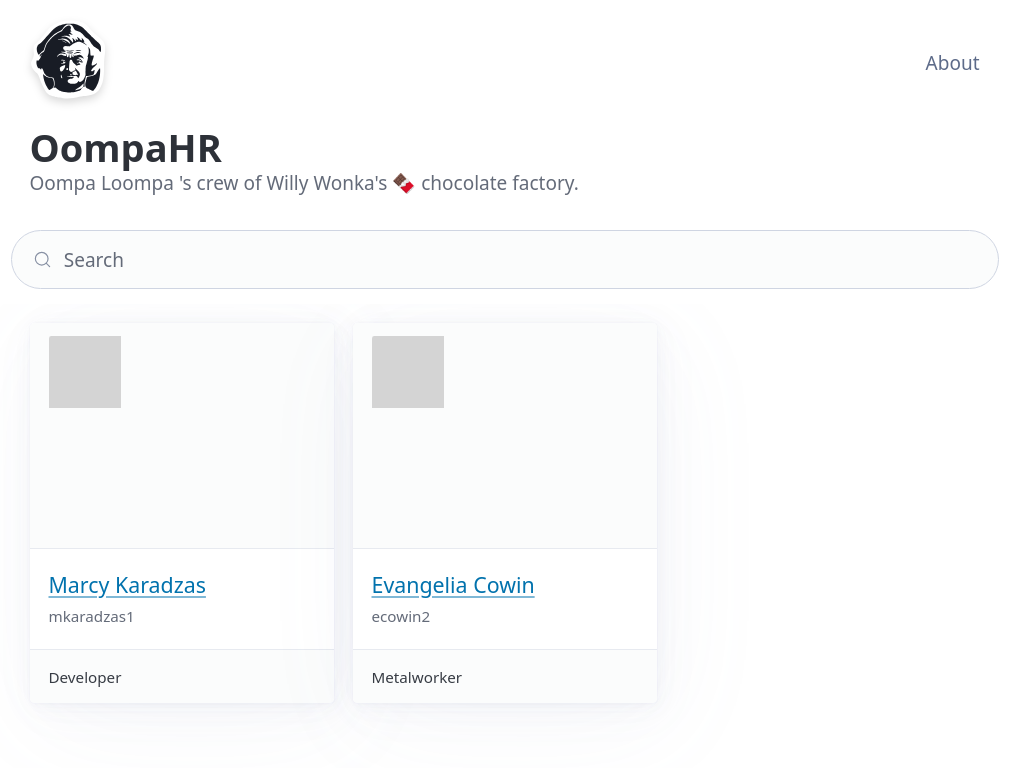
Test case: App › home view › navigation › navigates to the detail view when clicking on a worker
Click the link "Marcy Karadzas" at coordinates (127, 584), box top-left (48, 570), bottom-right (206, 599)
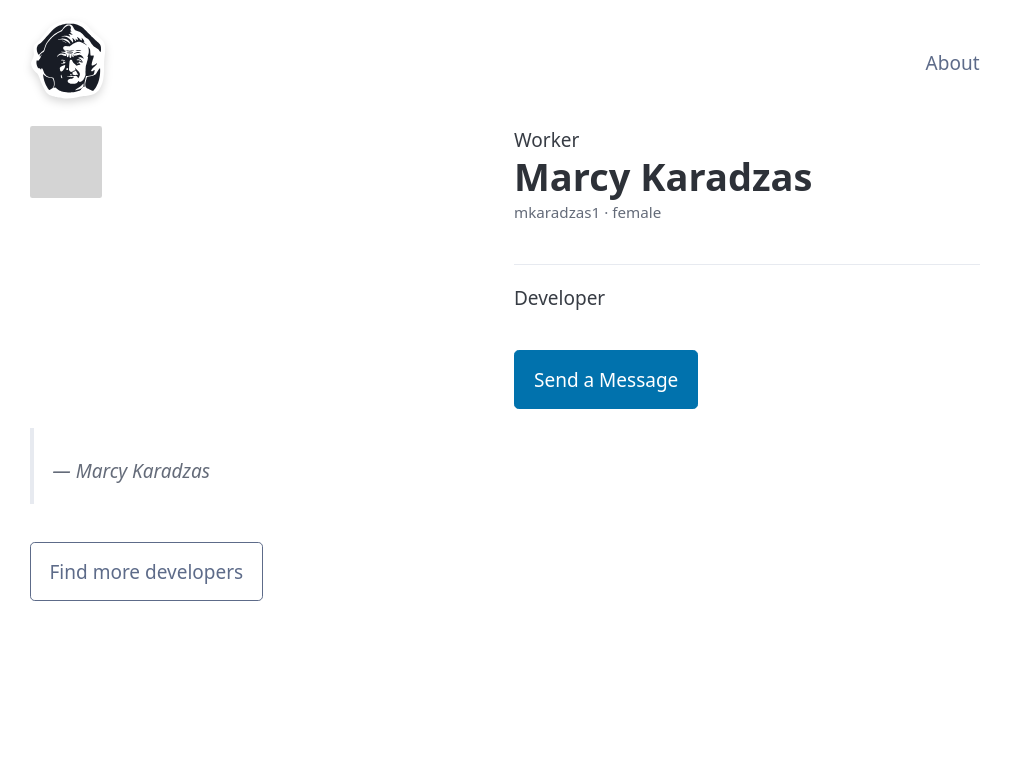
Check: the heading "Marcy Karadzas" is shown, box top-left (514, 150), bottom-right (812, 202)
